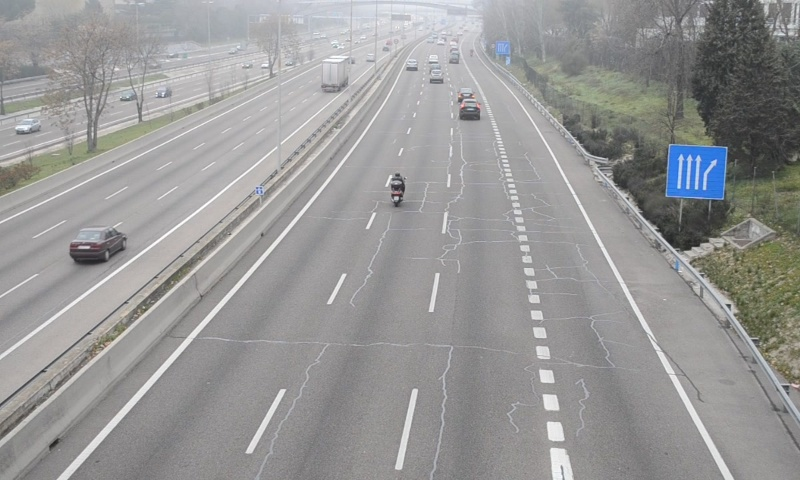car: (459, 98, 481, 120)
motorcycle: (388, 171, 405, 208)
